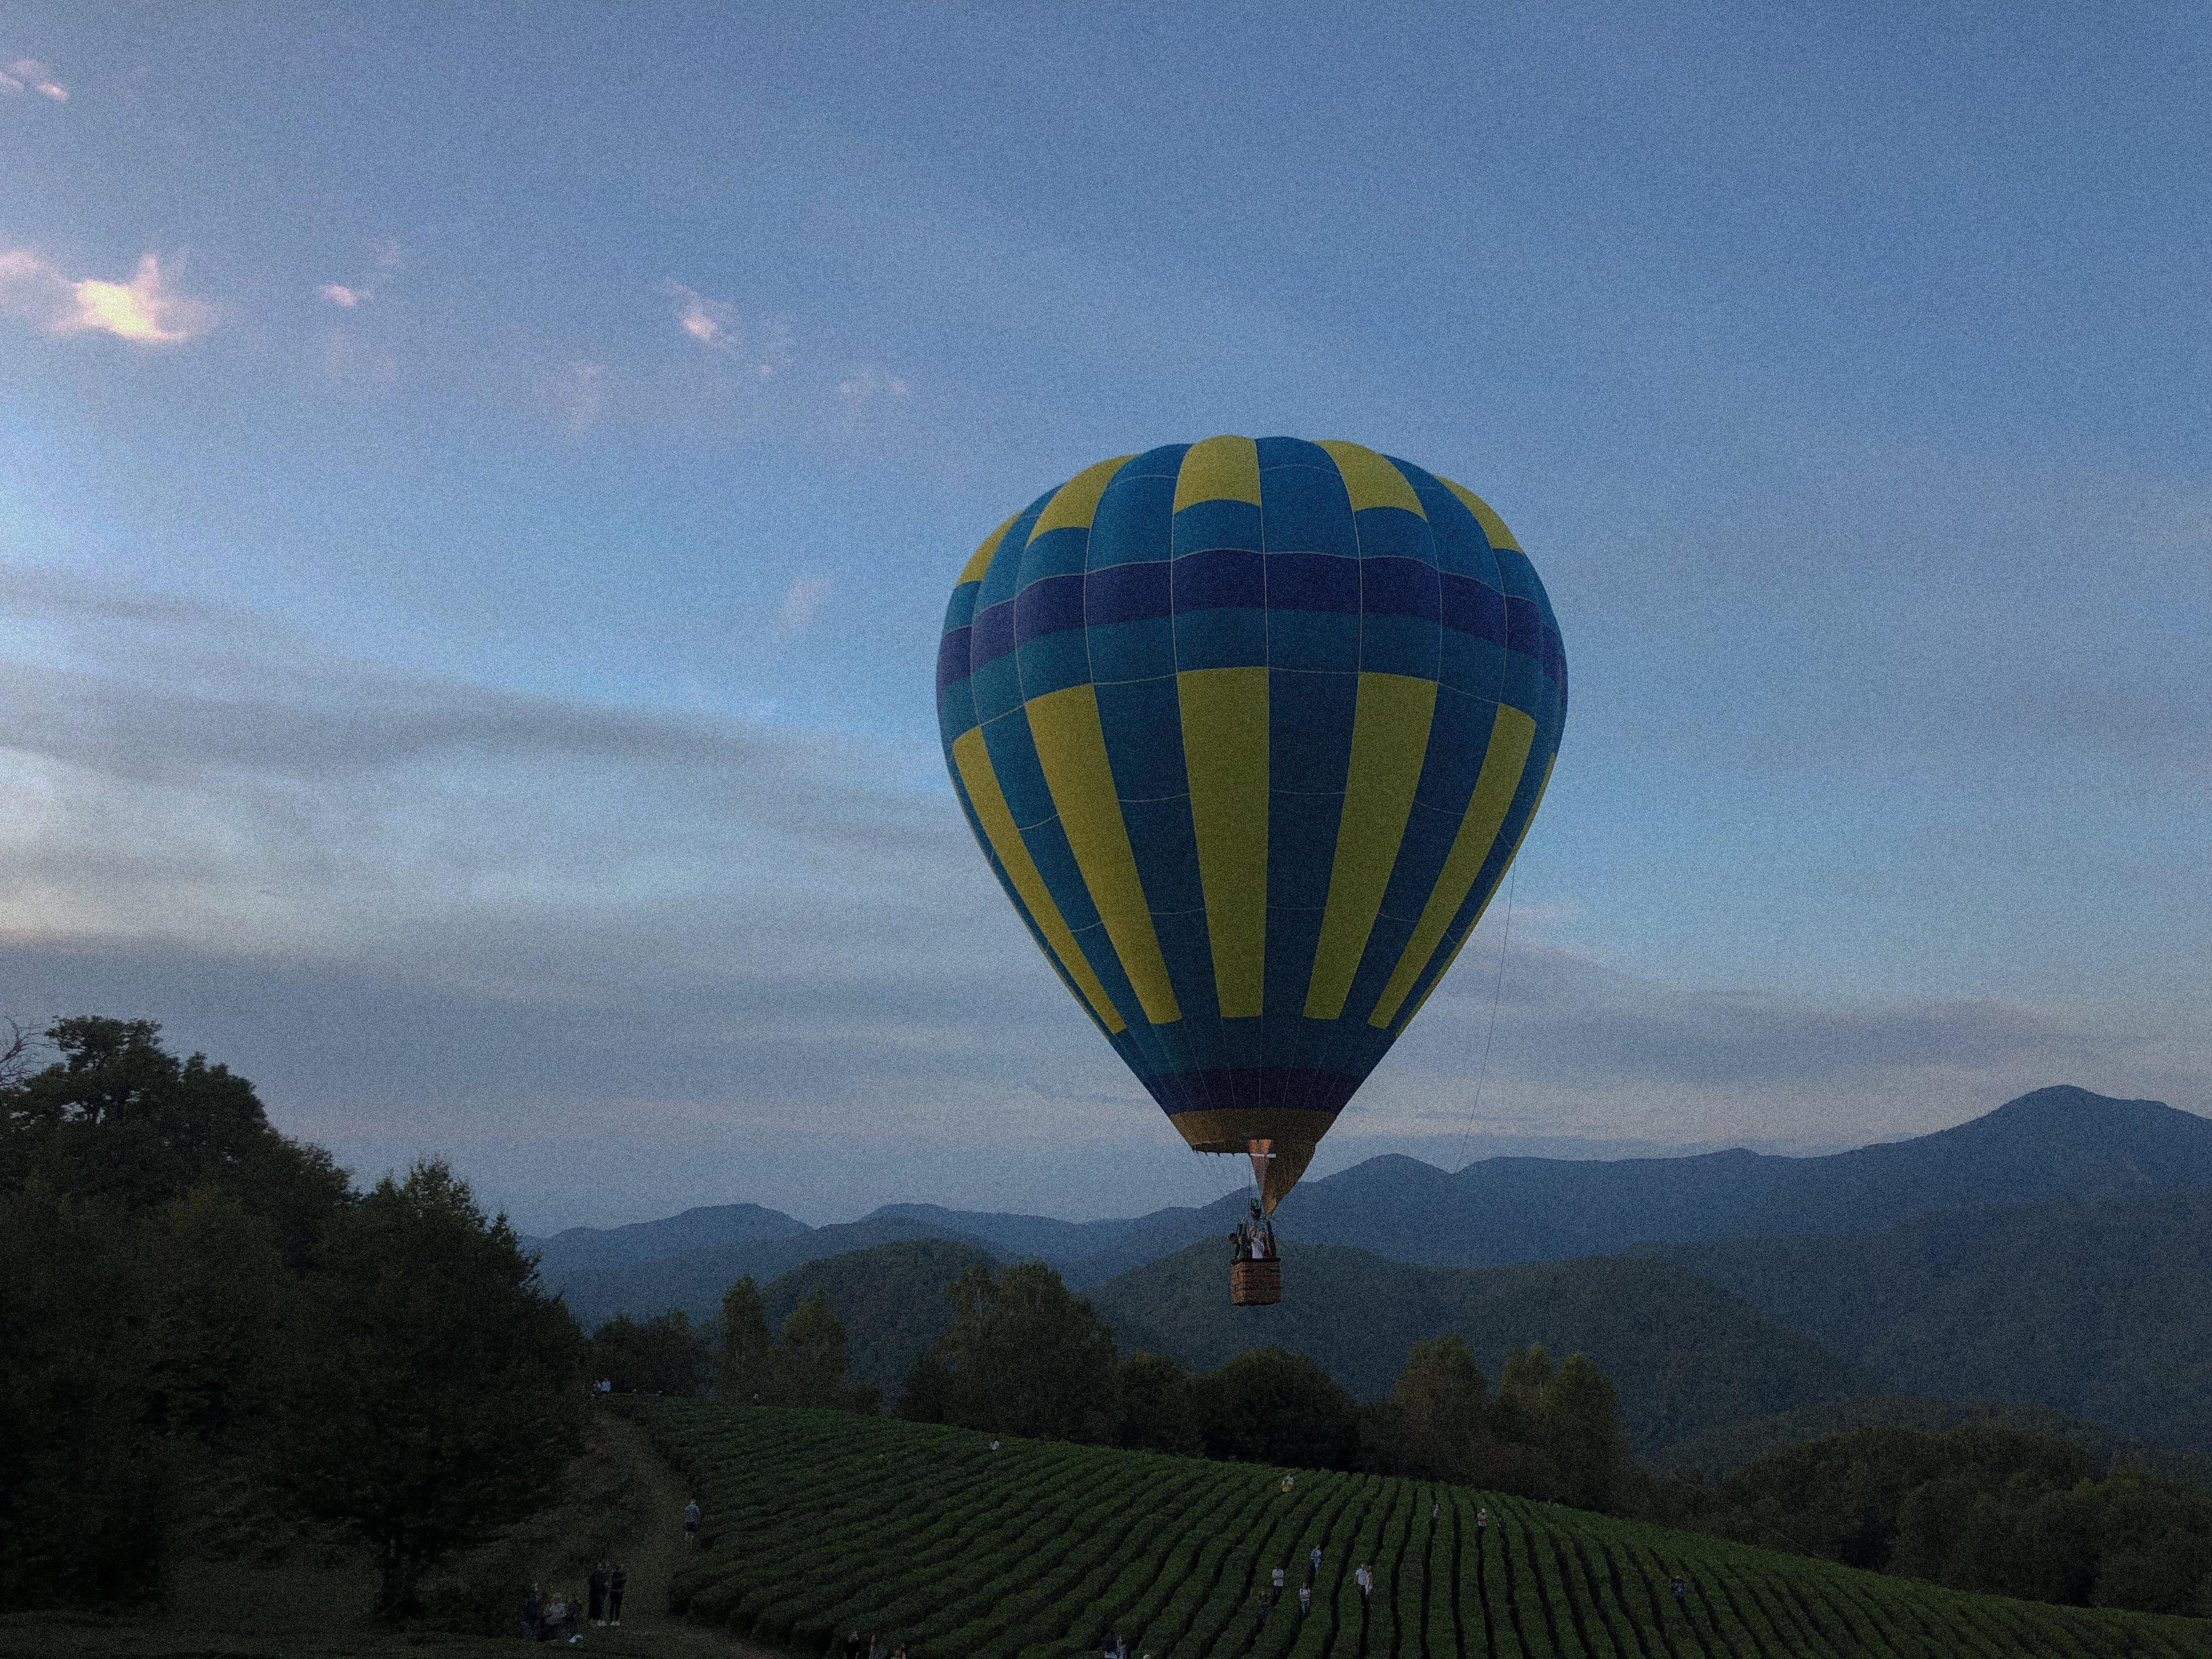hot air ballon: (935, 434, 1569, 1310)
